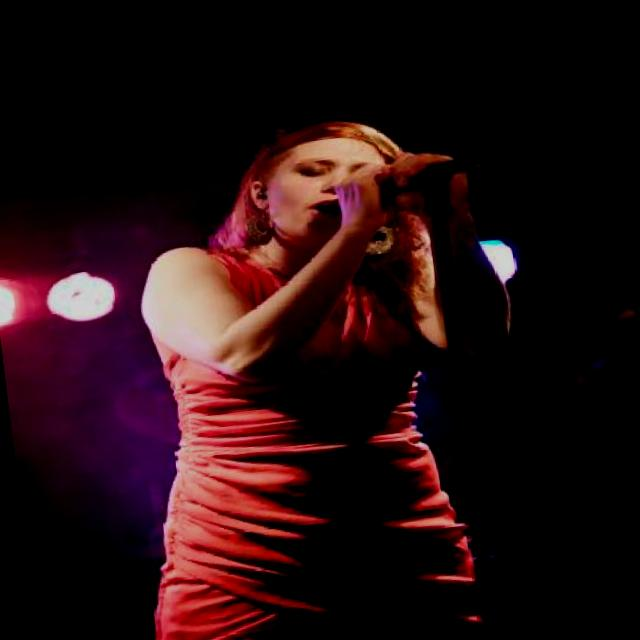Person: (69, 87, 558, 624)
